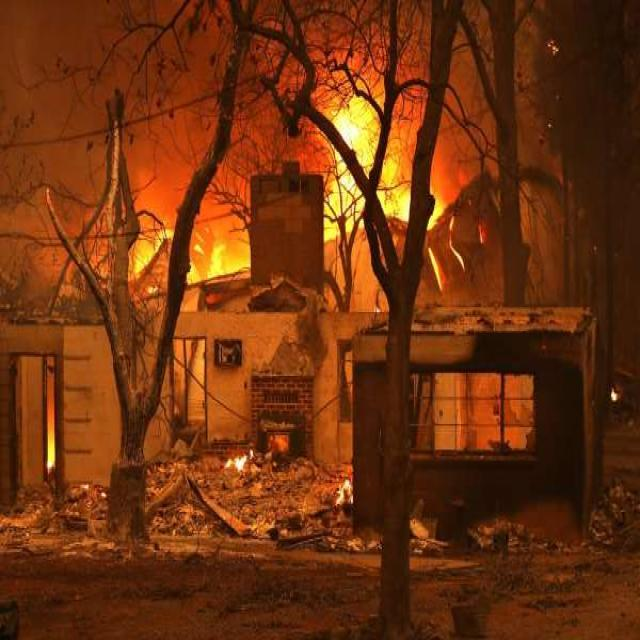Fire: (278, 52, 452, 262), (84, 196, 259, 326), (41, 355, 60, 490), (218, 456, 258, 477), (333, 477, 356, 510)
Smoke: (1, 0, 278, 202)
